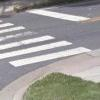Crosswalk: (0, 20, 74, 70)
